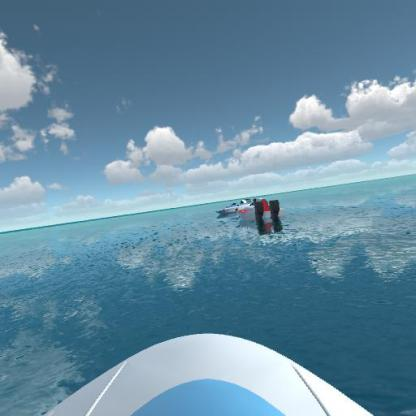usv1: (213, 195, 250, 216)
usv3: (236, 197, 290, 236)
